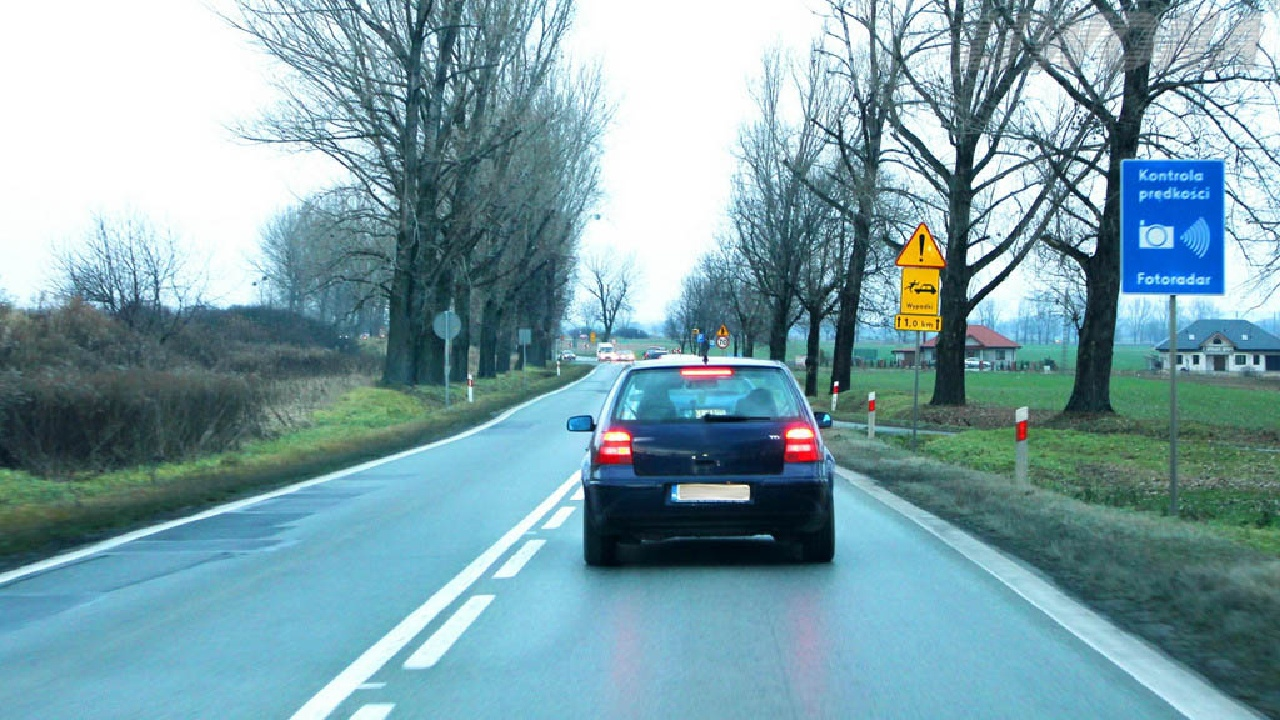A30: (896, 222, 947, 268)
D51: (1120, 158, 1229, 296)
